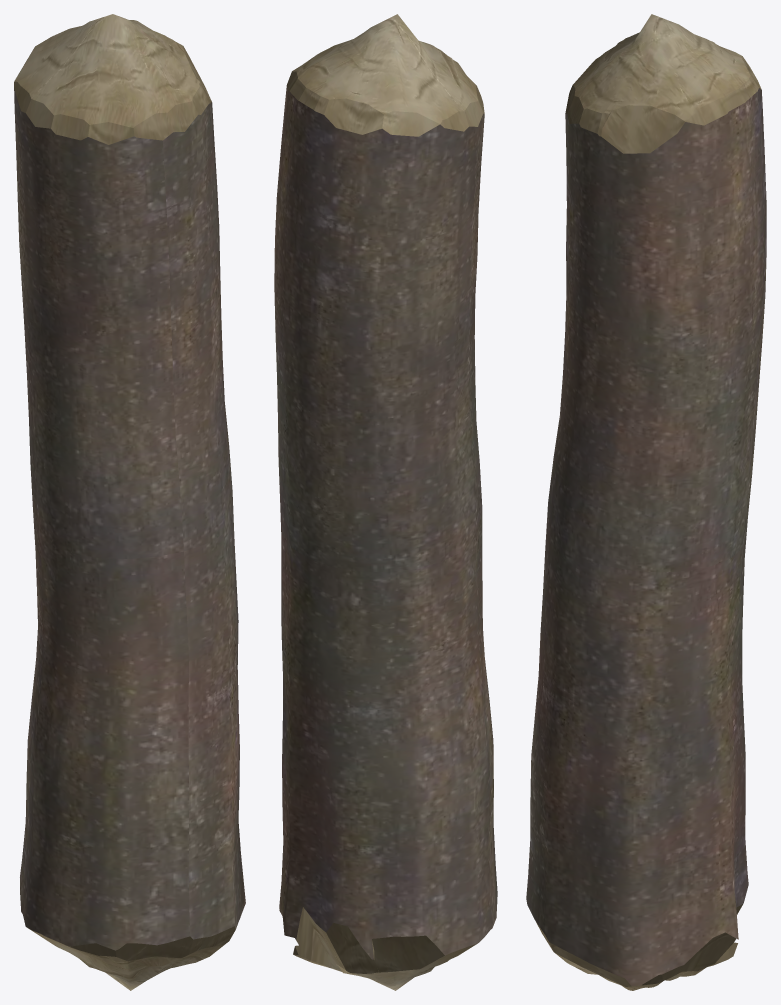
3 renders of one model, left to right at view 1: azimuth 30°, elevation 25°; view 2: azimuth 150°, elevation 25°; view 3: azimuth 270°, elevation 25°, orthographic.
Parts seen in each view (by area): view 1: SM_BM_Ash_Tree_01_quarter_01_LOD0; view 2: SM_BM_Ash_Tree_01_quarter_01_LOD0; view 3: SM_BM_Ash_Tree_01_quarter_01_LOD0.
Part boxes in pixels (bbox=[...]): SM_BM_Ash_Tree_01_quarter_01_LOD0: bbox=[14, 14, 245, 990]; SM_BM_Ash_Tree_01_quarter_01_LOD0: bbox=[274, 14, 497, 990]; SM_BM_Ash_Tree_01_quarter_01_LOD0: bbox=[526, 14, 766, 990].
Size of the model in its own units: 0.558 by 2.55 by 0.5727.
1 material, 1 textured.
